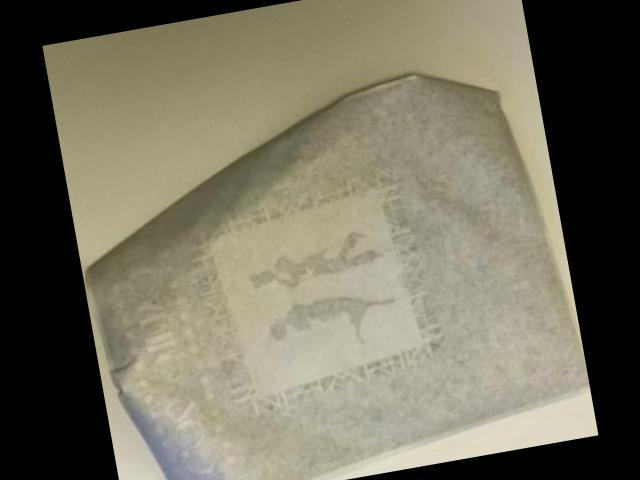cardboard paper: (85, 77, 587, 480)
